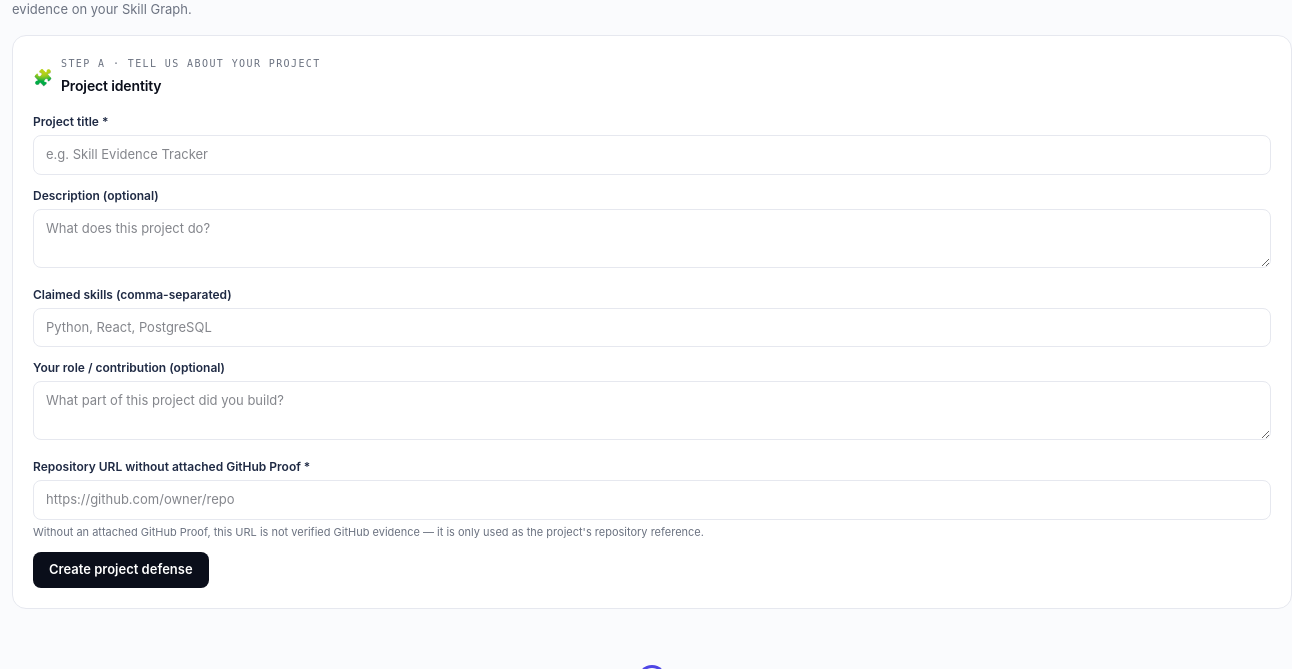
Test: ProjectDefensePanel › requires a title before creating a project defense
The width and height of the screenshot is (1292, 669).
Click the button "Create project defense" at (121, 570), box x1=33 y1=552 x2=209 y2=588
(page scrolled)
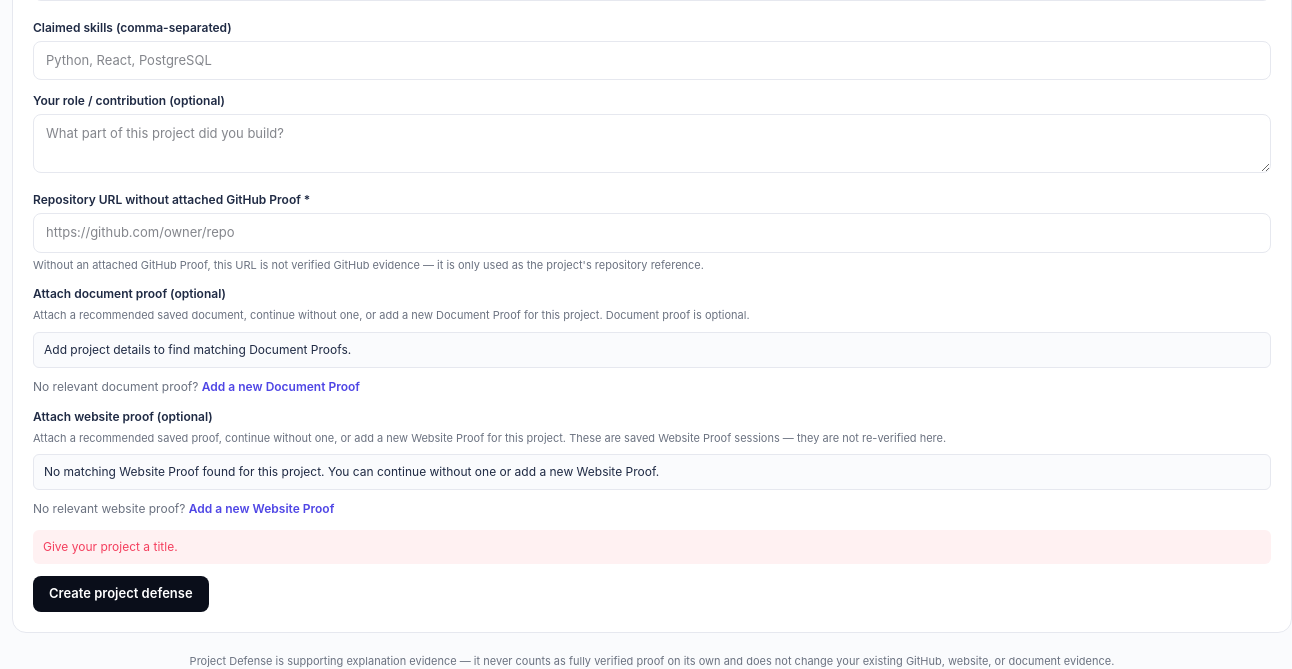
Expected: the text "Give your project a title." is shown, x1=33 y1=530 x2=1271 y2=564
